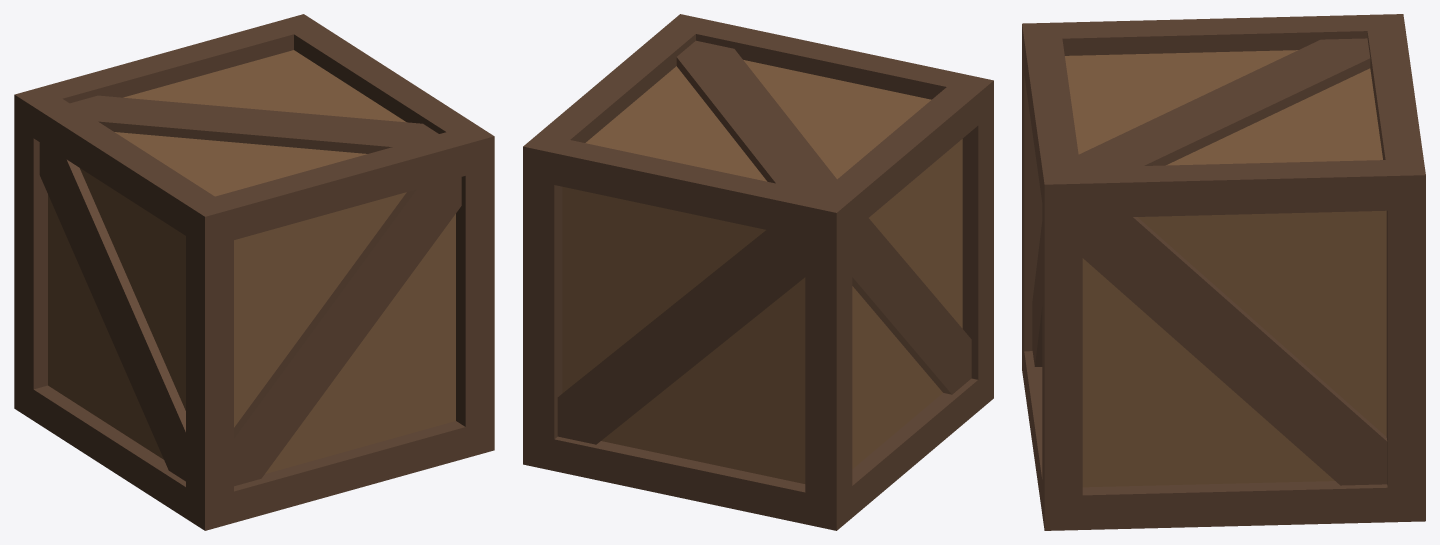
File: Crate.glb
The picture shows the model from 3 angles, left to right: view 1: azimuth 30°, elevation 25°; view 2: azimuth 150°, elevation 25°; view 3: azimuth 270°, elevation 25°; orthographic projection. The views are drawn at different scales.
Visible parts, largest first — view 1: Cube.004; view 2: Cube.004; view 3: Cube.004.
Part boxes in pixels (x1,y1,x2,y2): Cube.004: (14, 14, 494, 530); Cube.004: (523, 14, 993, 530); Cube.004: (1022, 14, 1425, 530).
Size of the model in its own units: 2.11 by 2 by 2.11.
